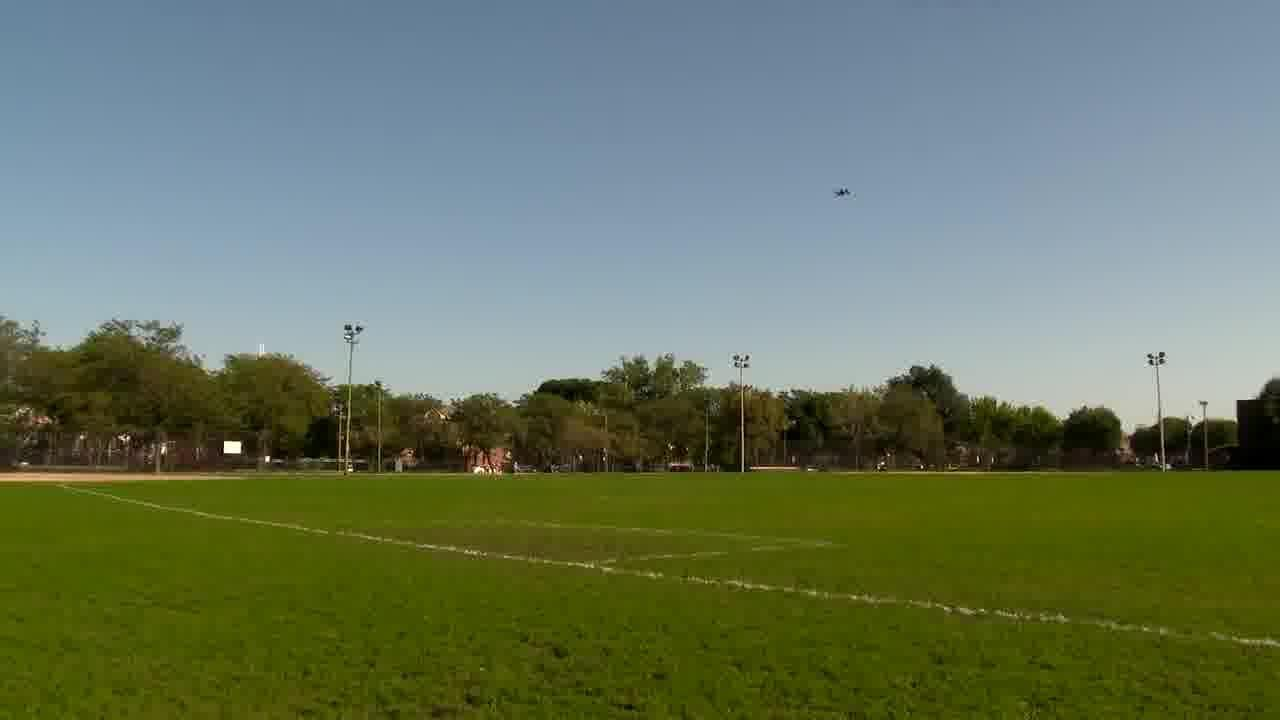drone: (826, 176, 861, 202)
